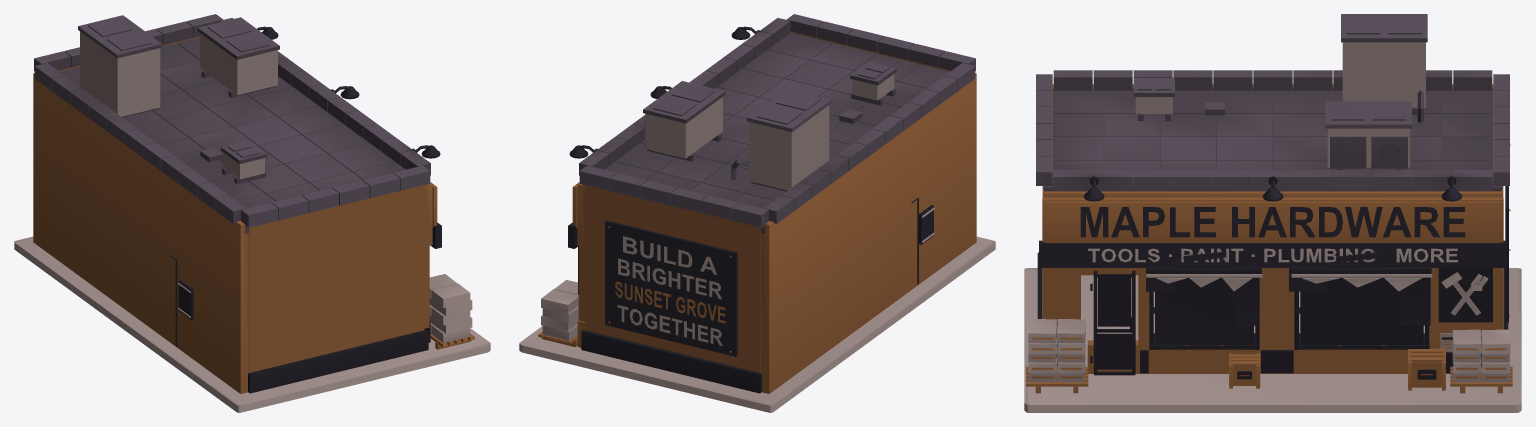
3 renders of one model, left to right at view 1: azimuth 30°, elevation 25°; view 2: azimuth 150°, elevation 25°; view 3: azimuth 270°, elevation 25°, orthographic. The views are drawn at different scales.
Visible parts, largest first — view 1: root_pal_woodWarm, roof_pal_asphalt, root_pal_sidewalk, roof_pal_sidewalk, root_pal_uiDark; view 2: root_pal_woodWarm, roof_pal_asphalt, root_pal_uiDark, root_pal_sidewalk, roof_pal_sidewalk; view 3: roof_pal_asphalt, root_pal_uiDark, root_pal_woodWarm, root_pal_sidewalk, roof_pal_sidewalk, door_front_pal_uiDark.
Part boxes in pixels (box(x1,y1,x2,y2)): root_pal_woodWarm: box(33, 36, 474, 393); roof_pal_asphalt: box(34, 14, 430, 233); root_pal_sidewalk: box(14, 236, 490, 412); roof_pal_sidewalk: box(80, 31, 277, 179); root_pal_uiDark: box(170, 26, 441, 393); root_pal_woodWarm: box(538, 32, 976, 393); roof_pal_asphalt: box(579, 14, 975, 233); root_pal_uiDark: box(568, 26, 933, 393); root_pal_sidewalk: box(519, 207, 995, 412); roof_pal_sidewalk: box(645, 74, 894, 190); roof_pal_asphalt: box(1036, 14, 1509, 191); root_pal_uiDark: box(1037, 176, 1508, 379); root_pal_woodWarm: box(1026, 84, 1512, 393); root_pal_sidewalk: box(1024, 248, 1521, 412); roof_pal_sidewalk: box(1135, 42, 1425, 167); door_front_pal_uiDark: box(1090, 270, 1135, 375).
Size of the model in its own units: 7.43 by 6.96 by 11.4.
